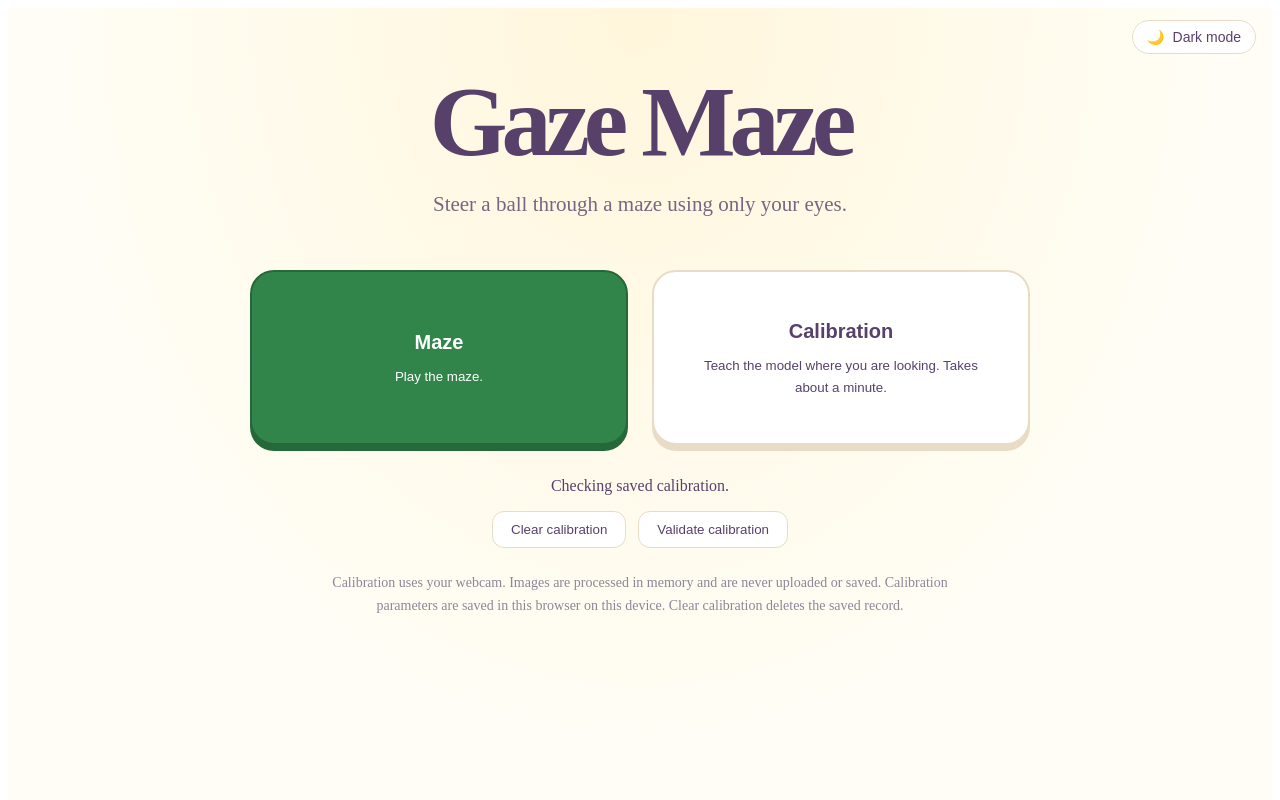
Scenario: App › replaces the previous result on recalibration
Click the button "Calibration" at x=841, y=357, box [652,270,1030,445]
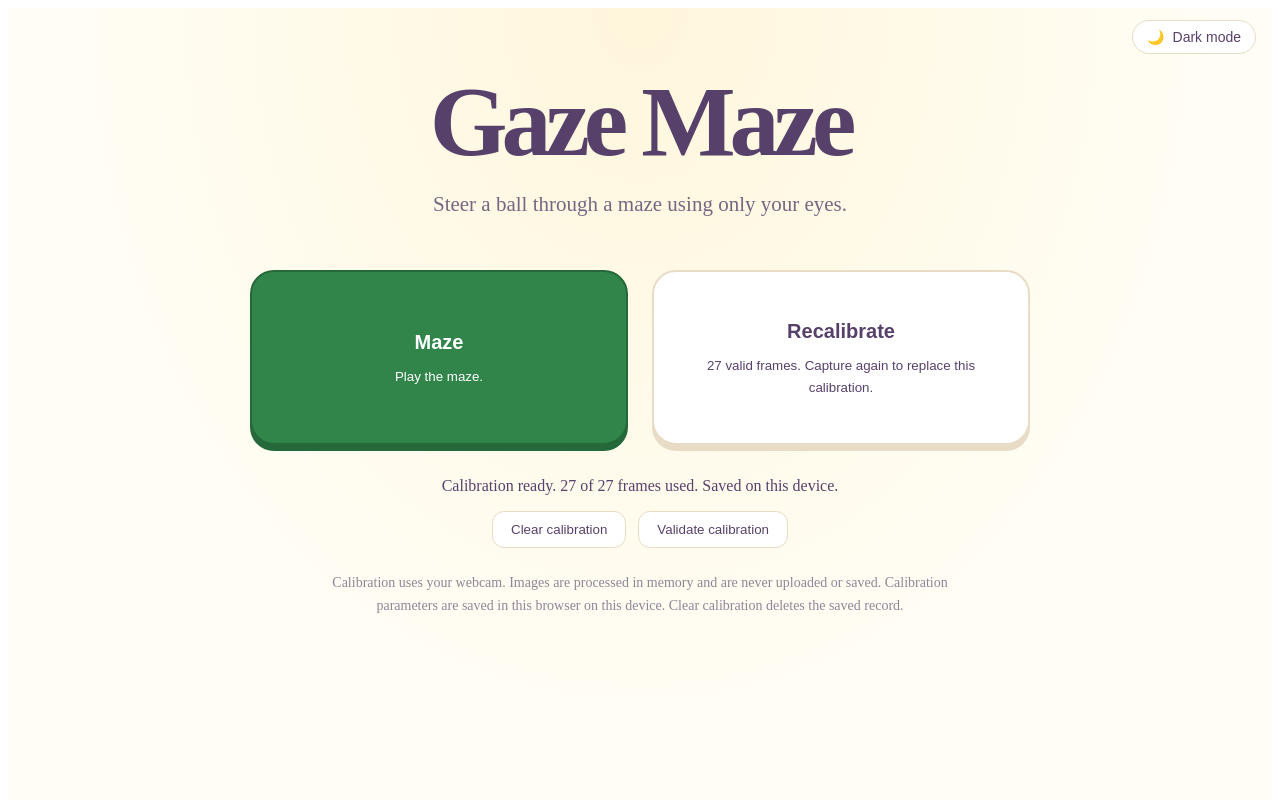
Click the button "Recalibrate" at x=841, y=357, box [652,270,1030,445]
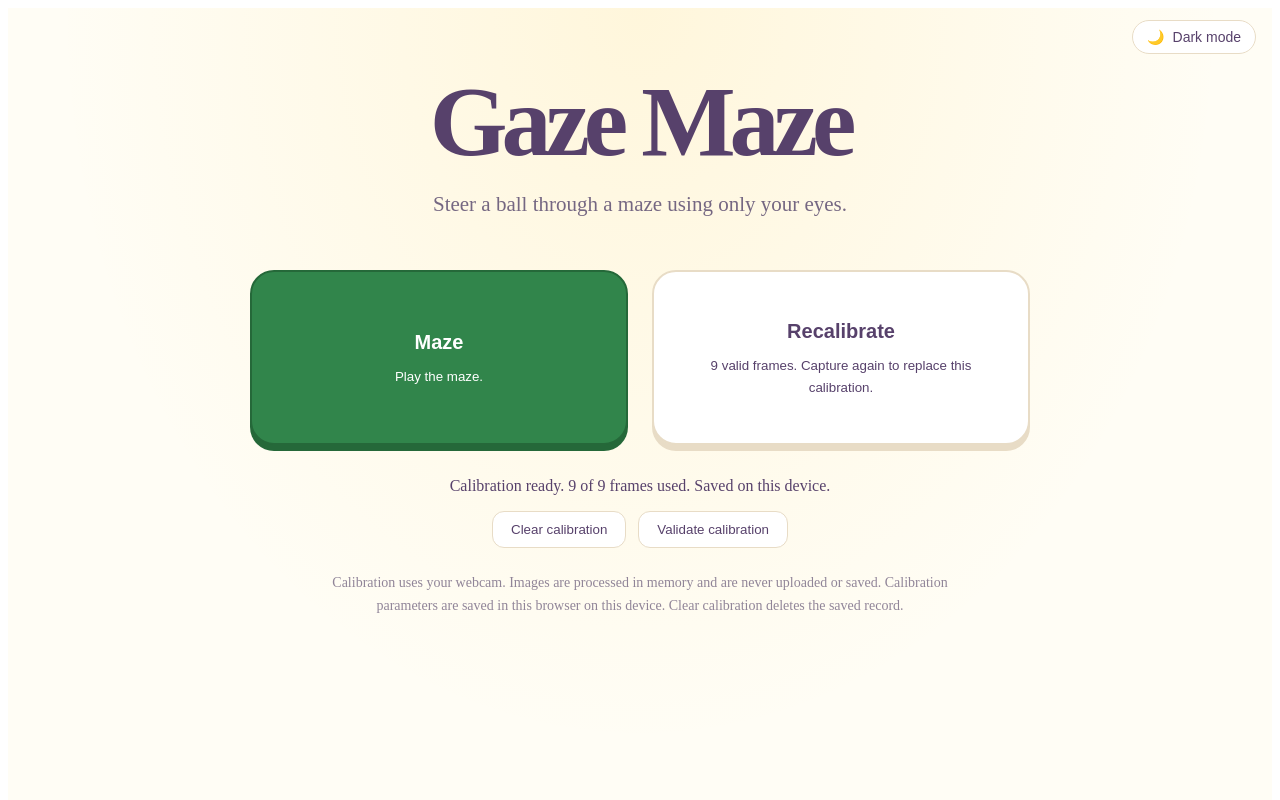
Expected: the text "Calibration ready. 9 of 9 frames used. Saved on this device." is shown, [450,477,830,494]
